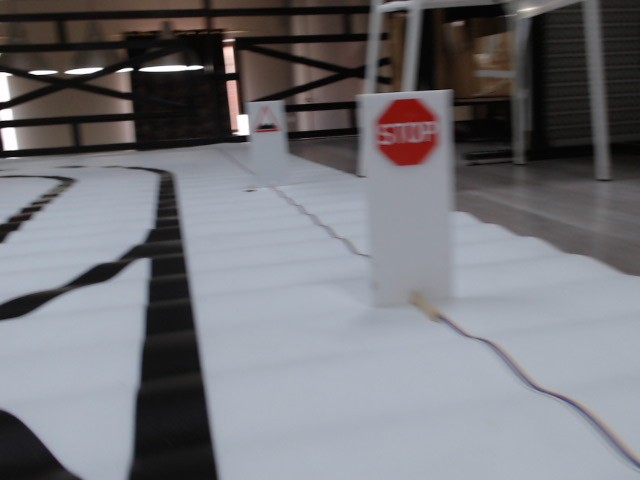Nerov: (252, 104, 281, 136)
Stop: (373, 98, 441, 168)
